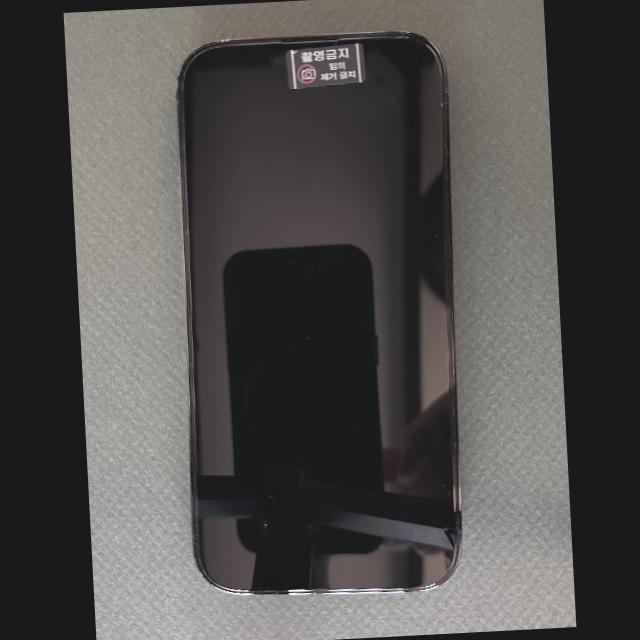phone: (179, 34, 461, 592)
sticker: (285, 43, 367, 89)
